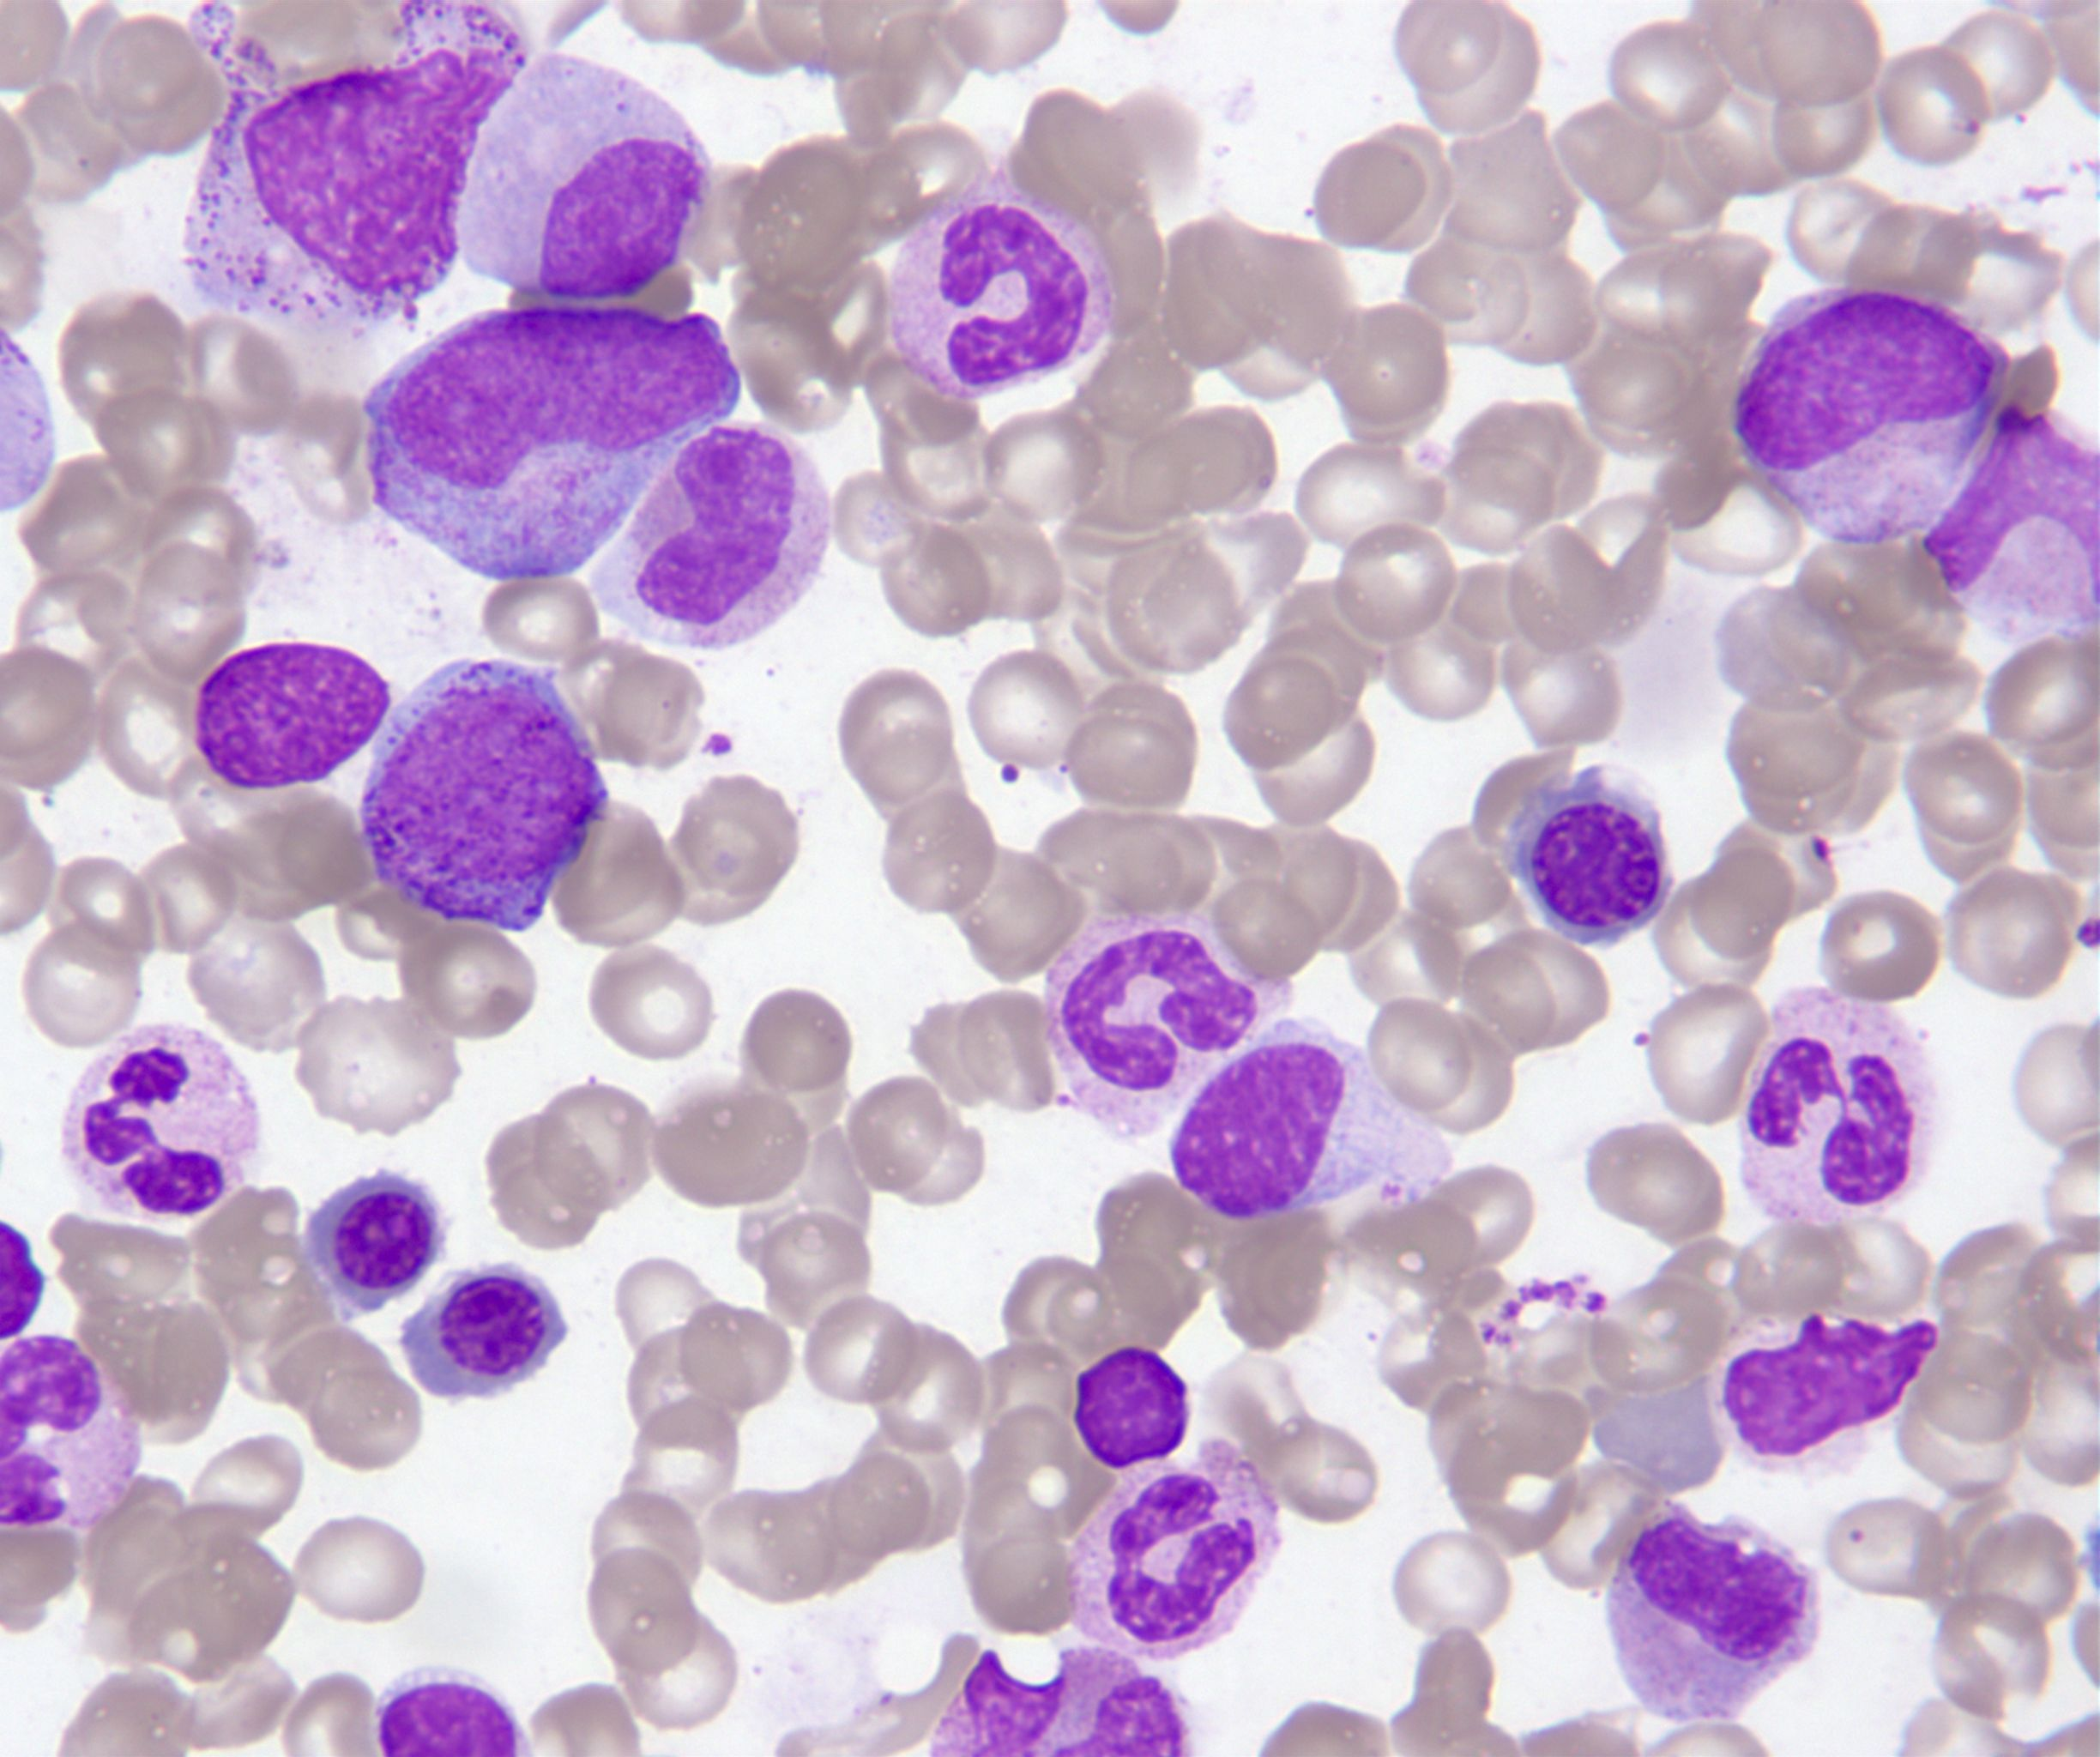1: (356, 300, 747, 593), (354, 653, 614, 939)
23: (1491, 761, 1690, 954), (396, 1255, 569, 1412), (302, 1162, 447, 1317)
3: (171, 0, 535, 335)
4: (1716, 274, 2022, 550), (450, 45, 717, 304), (577, 410, 841, 656), (1598, 1495, 1826, 1722)
5: (1038, 902, 1296, 1152), (877, 180, 1120, 408), (1060, 1436, 1285, 1668)
6: (1723, 975, 1948, 1241), (52, 1014, 267, 1234)
x: (1163, 1007, 1455, 1227), (1706, 1296, 1964, 1480), (188, 633, 396, 797), (1066, 1337, 1197, 1473)
